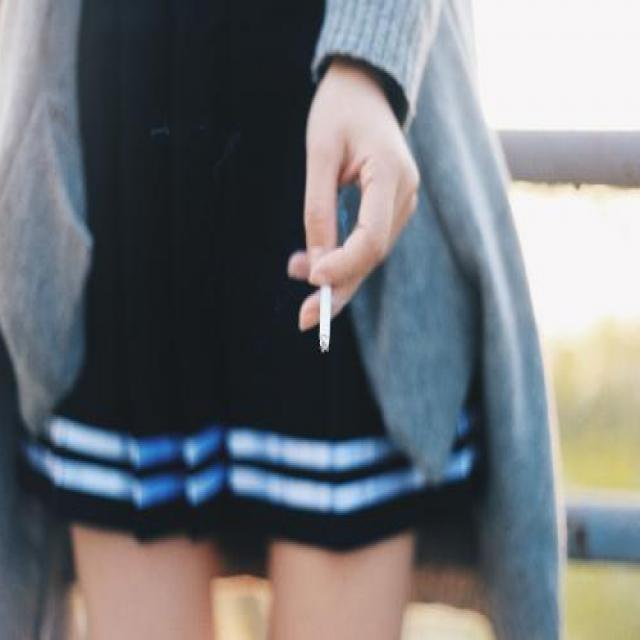smoking: (308, 247, 344, 354)
